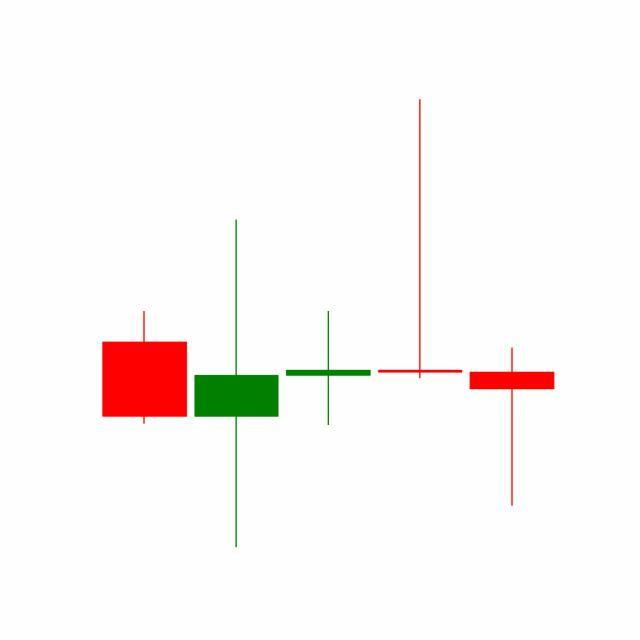Hammer: (466, 347, 559, 509)
